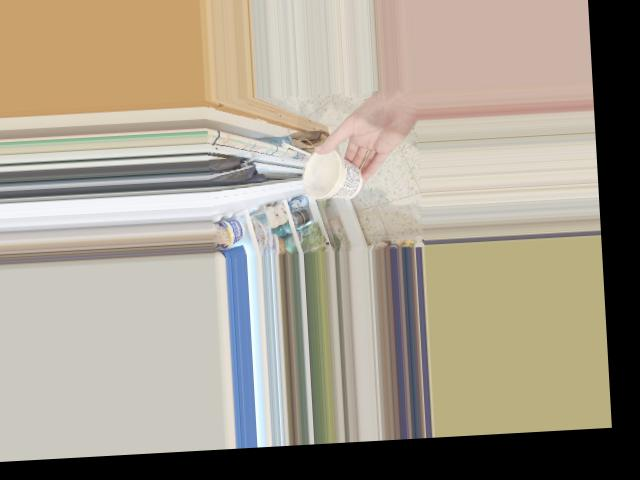cotage: (300, 147, 365, 196)
